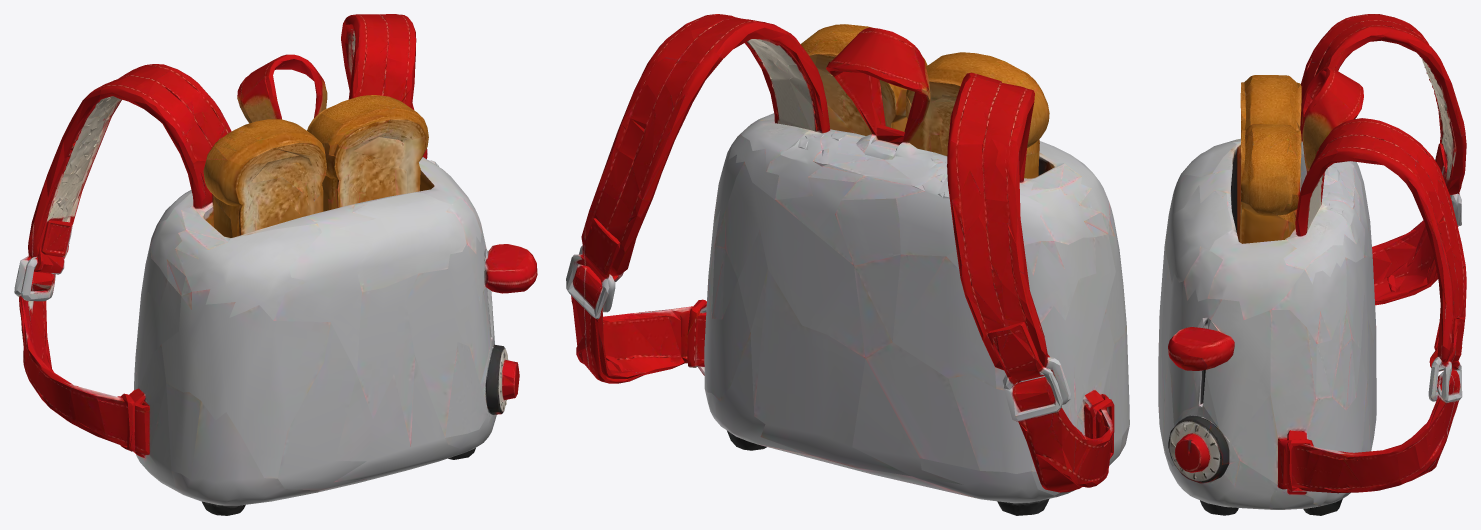
Rendered from toaster_pack.glb.
3 views of the same model, side by side, from view 1: azimuth 30°, elevation 25°; view 2: azimuth 150°, elevation 25°; view 3: azimuth 270°, elevation 25° (orthographic). The views are drawn at different scales.
Parts seen in each view (by area): view 1: Mesh_0; view 2: Mesh_0; view 3: Mesh_0.
Part boxes in pixels (x1=…): Mesh_0: x1=14, y1=14, x2=537, y2=515; Mesh_0: x1=566, y1=14, x2=1129, y2=515; Mesh_0: x1=1158, y1=14, x2=1466, y2=515.
Bounding box in the file's own units: 1 × 0.8446 × 0.6178.
Materials: 1 (1 with a texture image).
